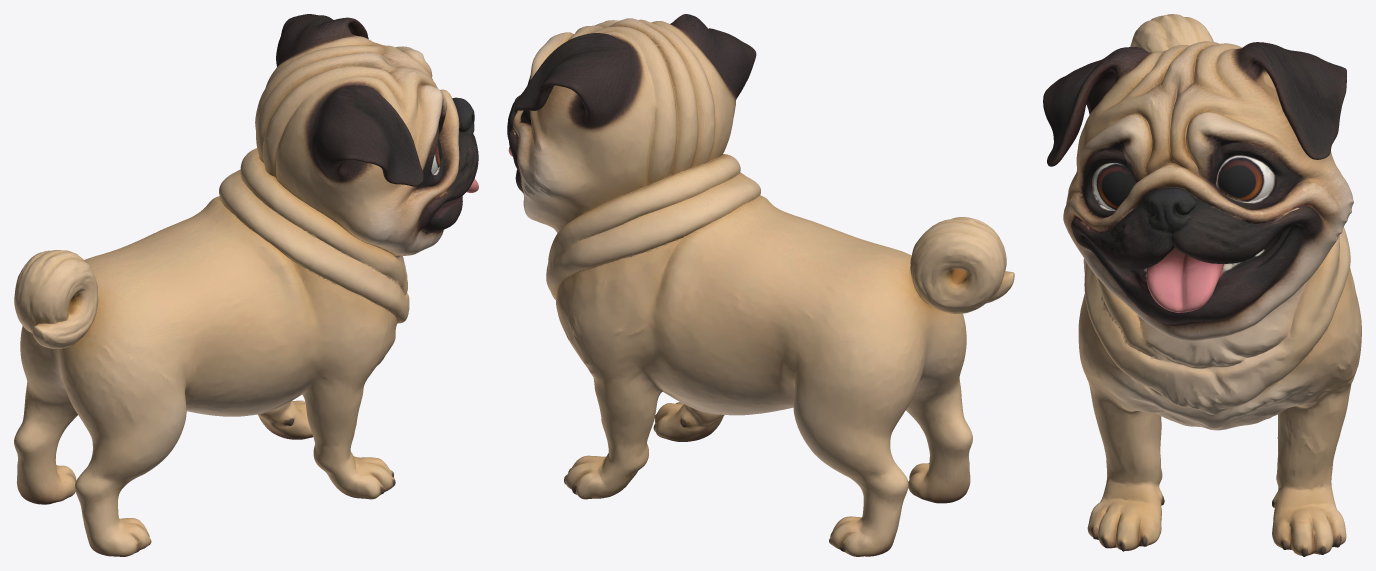
Rendered from ClydePyxar.glb.
The picture shows the model from 3 angles, left to right: view 1: azimuth 30°, elevation 25°; view 2: azimuth 150°, elevation 25°; view 3: azimuth 270°, elevation 25°; orthographic projection. The views are drawn at different scales.
Parts seen in each view (by area): view 1: tripo_node_aafc9c10-2674-4179-8ec2-867522afa32b; view 2: tripo_node_aafc9c10-2674-4179-8ec2-867522afa32b; view 3: tripo_node_aafc9c10-2674-4179-8ec2-867522afa32b.
Boxes of the visible parts, x1,y1,x2,y2 form: tripo_node_aafc9c10-2674-4179-8ec2-867522afa32b: (14, 14, 478, 556); tripo_node_aafc9c10-2674-4179-8ec2-867522afa32b: (507, 14, 1014, 556); tripo_node_aafc9c10-2674-4179-8ec2-867522afa32b: (1043, 14, 1361, 556).
Size of the model in its own units: 1 by 0.8664 by 0.493.
1 material, 1 textured.
